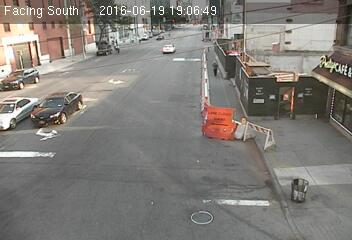neg: (142, 38, 163, 66), (112, 44, 122, 58)
pos: (204, 56, 220, 78)
